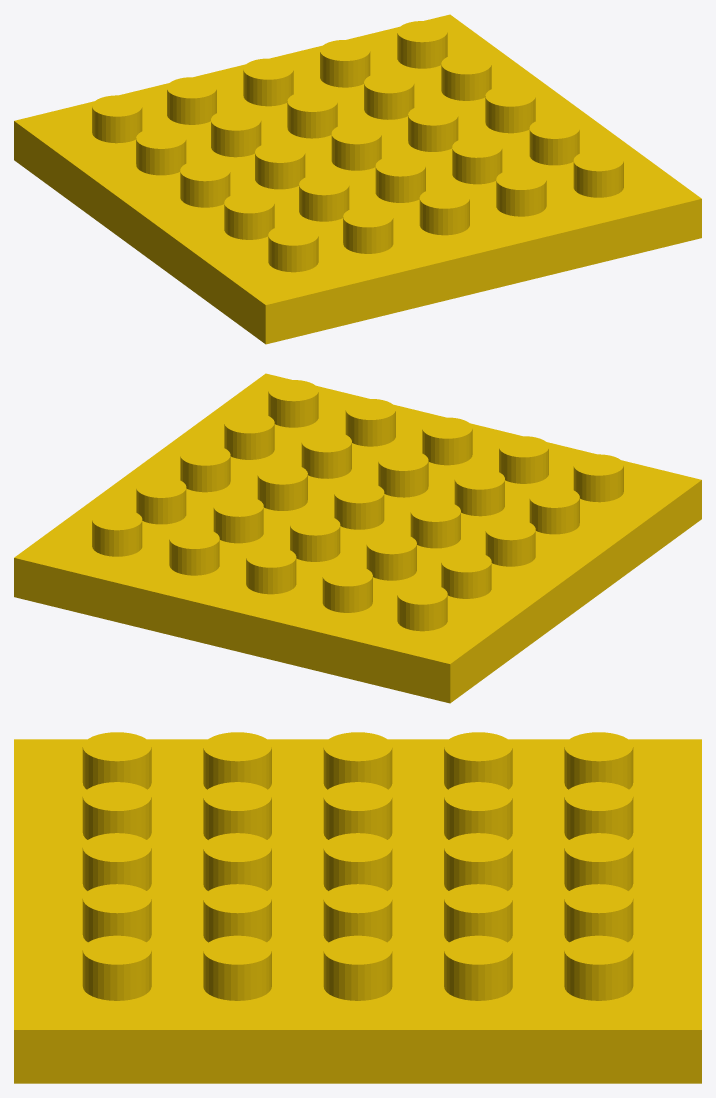
The model's file is braille.fbx.
The picture shows the model from 3 angles, top to bottom: view 1: azimuth 30°, elevation 25°; view 2: azimuth 150°, elevation 25°; view 3: azimuth 270°, elevation 25°; orthographic projection. The views are drawn at different scales.
Parts seen in each view (by area): view 1: Cube; view 2: Cube; view 3: Cube.
Boxes of the visible parts, <box> form: Cube: <box>14,14,701,344</box>; Cube: <box>14,373,701,703</box>; Cube: <box>14,732,701,1083</box>.
Bounding box in the file's own units: 200 × 28.84 × 200.
